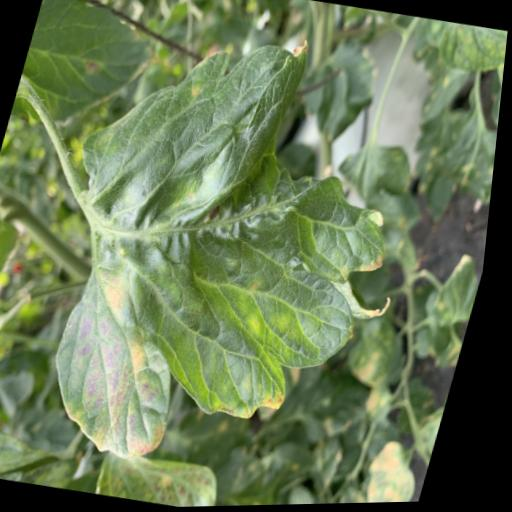Leaf Mold: (5, 18, 442, 496)
